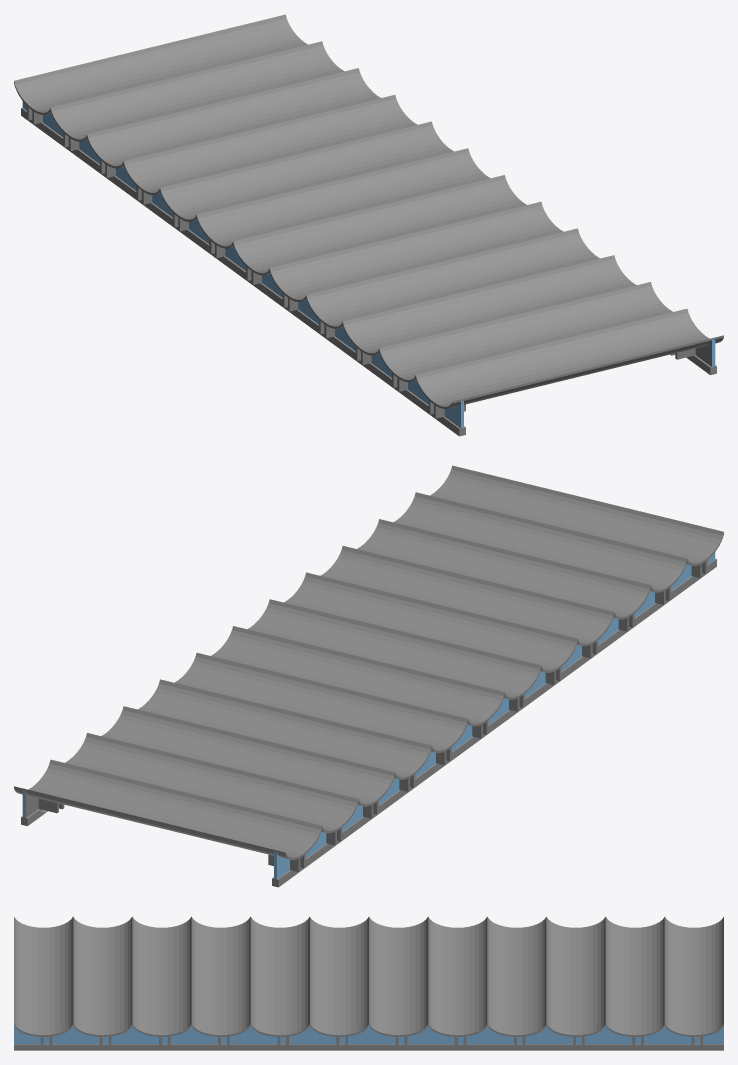
Rendered from Cobertura.fbx.
3 renders of one model, top to bottom at view 1: azimuth 30°, elevation 25°; view 2: azimuth 150°, elevation 25°; view 3: azimuth 270°, elevation 25°, orthographic. The views are drawn at different scales.
Parts seen in each view (by area): view 1: PortagemCobertura; view 2: PortagemCobertura; view 3: PortagemCobertura.
Part boxes in pixels (x1,y1,x2,y2): PortagemCobertura: (14,14,723,436); PortagemCobertura: (14,465,723,887); PortagemCobertura: (14,916,723,1050).
Size of the model in its own units: 867 by 112 by 2421.
